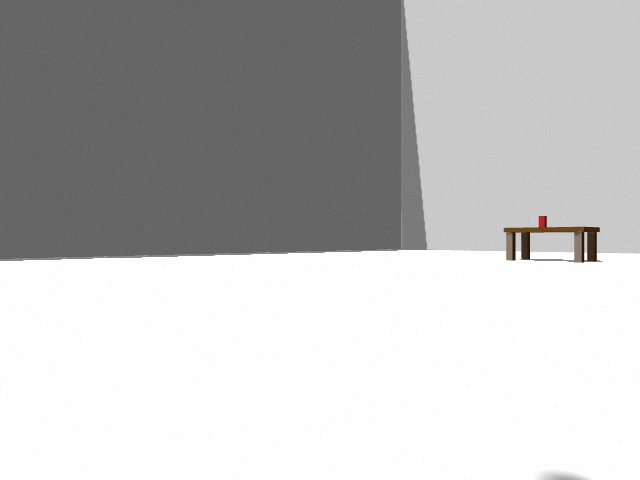red_cube: (539, 216, 545, 228)
